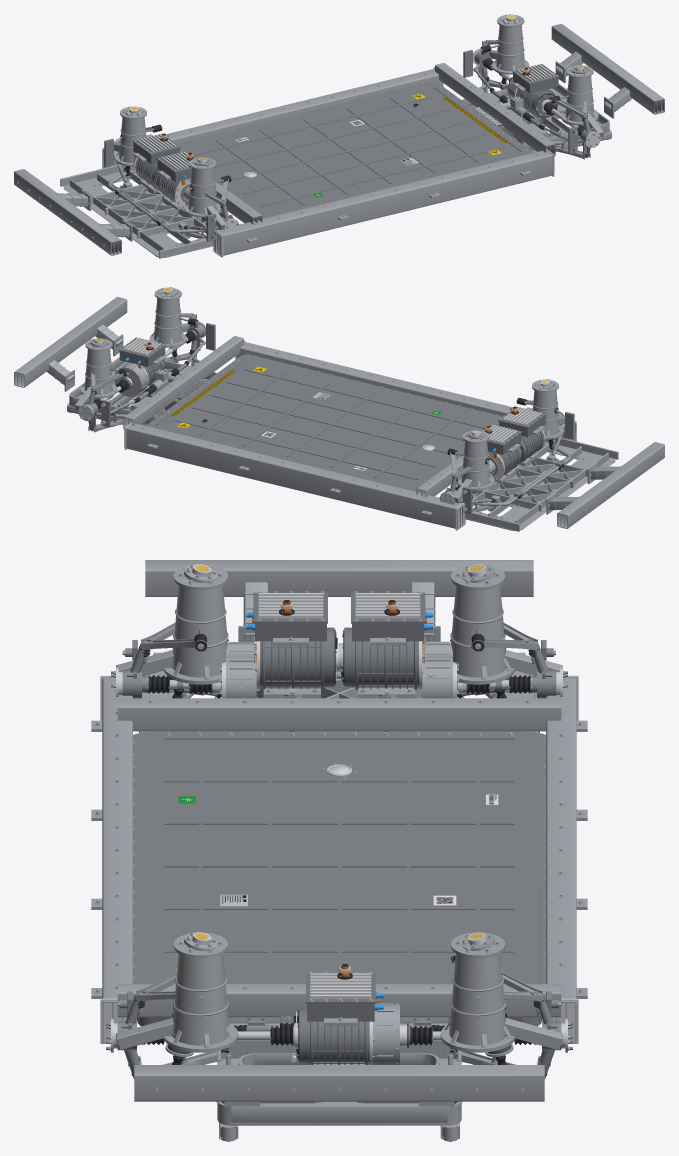
File: su7-ultra-xray.glb
The picture shows the model from 3 angles, top to bottom: view 1: azimuth 30°, elevation 25°; view 2: azimuth 150°, elevation 25°; view 3: azimuth 270°, elevation 25°; orthographic projection. The views are drawn at different scales.
Parts seen in each view (by area): view 1: XR_Battery_Lid, XR_Frame_Floor, XR_Frame_SubR, XR_Frame_CrashF, XR_Frame_CrashR, XR_Susp_RR_Tower, XR_Susp_FL_Tower, XR_Susp_FR_Tower, XR_Frame_SubF, XR_Susp_RL_Tower, XR_Drive_F_Inverter, XR_Drive_RL_Inverter (+9 smaller); view 2: XR_Battery_Lid, XR_Frame_Floor, XR_Frame_SubR, XR_Frame_CrashF, XR_Frame_CrashR, XR_Susp_RL_Tower, XR_Susp_FR_Tower, XR_Susp_FL_Tower, XR_Frame_SubF, XR_Susp_RR_Tower, XR_Drive_F_Inverter, XR_Drive_RR_Inverter (+9 smaller); view 3: XR_Battery_Lid, XR_Frame_Floor, XR_Frame_CrashF, XR_Frame_CrashR, XR_Frame_SubF, XR_Susp_FL_Tower, XR_Susp_FR_Tower, XR_Susp_RL_Tower, XR_Susp_RR_Tower, XR_Drive_RR_Casing, XR_Drive_RL_Casing, XR_Drive_RL_Inverter (+15 smaller).
Part boxes in pixels (<box>): XR_Battery_Lid: <box>176,81,533,218</box>; XR_Frame_Floor: <box>102,63,555,257</box>; XR_Frame_SubR: <box>60,164,233,258</box>; XR_Frame_CrashF: <box>551,23,664,118</box>; XR_Frame_CrashR: <box>14,169,132,255</box>; XR_Susp_RR_Tower: <box>184,157,226,230</box>; XR_Susp_FL_Tower: <box>489,15,529,74</box>; XR_Susp_FR_Tower: <box>561,65,603,137</box>; XR_Frame_SubF: <box>462,83,611,152</box>; XR_Susp_RL_Tower: <box>114,107,146,166</box>; XR_Drive_F_Inverter: <box>512,64,559,93</box>; XR_Drive_RL_Inverter: <box>132,133,180,164</box>; XR_Battery_Lid: <box>145,354,502,491</box>; XR_Frame_Floor: <box>123,336,576,530</box>; XR_Frame_SubR: <box>445,437,618,531</box>; XR_Frame_CrashF: <box>14,296,127,391</box>; XR_Frame_CrashR: <box>546,442,664,528</box>; XR_Susp_RL_Tower: <box>453,430,494,503</box>; XR_Susp_FR_Tower: <box>149,288,189,347</box>; XR_Susp_FL_Tower: <box>75,338,117,410</box>; XR_Frame_SubF: <box>67,357,216,425</box>; XR_Susp_RR_Tower: <box>532,380,564,439</box>; XR_Drive_F_Inverter: <box>118,337,165,368</box>; XR_Drive_RR_Inverter: <box>498,406,546,437</box>; XR_Battery_Lid: <box>133,731,545,983</box>; XR_Frame_Floor: <box>91,675,587,1043</box>; XR_Frame_CrashF: <box>134,1065,544,1106</box>; XR_Frame_CrashR: <box>145,560,533,642</box>; XR_Frame_SubF: <box>217,1017,461,1141</box>; XR_Susp_FL_Tower: <box>440,932,562,1052</box>; XR_Susp_FR_Tower: <box>116,932,238,1052</box>; XR_Susp_RL_Tower: <box>450,564,562,684</box>; XR_Susp_RR_Tower: <box>116,564,228,684</box>; XR_Drive_RR_Casing: <box>254,627,339,698</box>; XR_Drive_RL_Casing: <box>339,627,424,698</box>; XR_Drive_RL_Inverter: <box>351,591,432,645</box>.
Bounding box in the file's own units: 4.63 × 0.6867 × 1.79.
30 materials, 12 textured.
